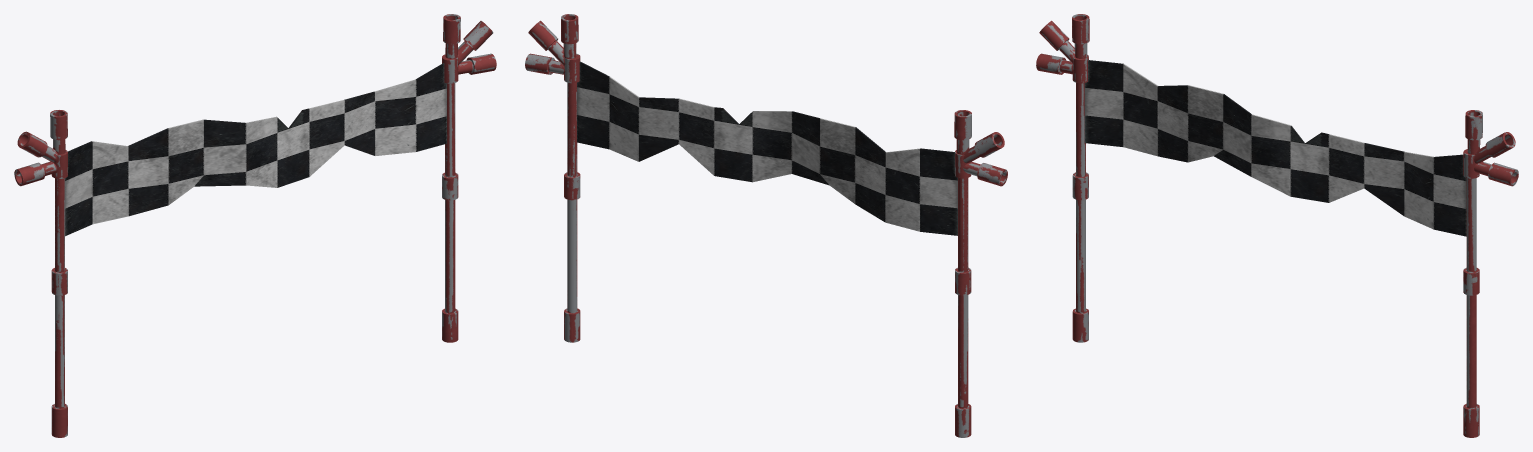
The model's file is EndFlag1.fbx.
The picture shows the model from 3 angles, left to right: view 1: azimuth 30°, elevation 25°; view 2: azimuth 150°, elevation 25°; view 3: azimuth 330°, elevation 25°; orthographic projection.
Visible parts, largest first — view 1: polySurface1271_lambert1_0, polySurface1271_lambert1_0.001; view 2: polySurface1271_lambert1_0, polySurface1271_lambert1_0.001; view 3: polySurface1271_lambert1_0, polySurface1271_lambert1_0.001.
Boxes of the visible parts, box(x1,y1,x2,y2) form: polySurface1271_lambert1_0: box(14, 110, 288, 437); polySurface1271_lambert1_0.001: box(288, 14, 496, 342); polySurface1271_lambert1_0: box(738, 110, 1007, 437); polySurface1271_lambert1_0.001: box(525, 14, 738, 342); polySurface1271_lambert1_0: box(1036, 14, 1304, 342); polySurface1271_lambert1_0.001: box(1304, 110, 1518, 437).
Bounding box in the file's own units: 381 × 246 × 18.97.
1 material, 1 textured.
